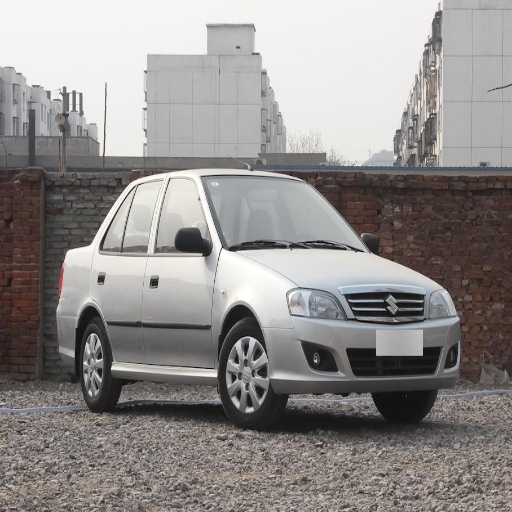front_bumper: (266, 286, 460, 392)
front_right_door: (142, 175, 217, 367)
front_right_light: (287, 285, 346, 319)
